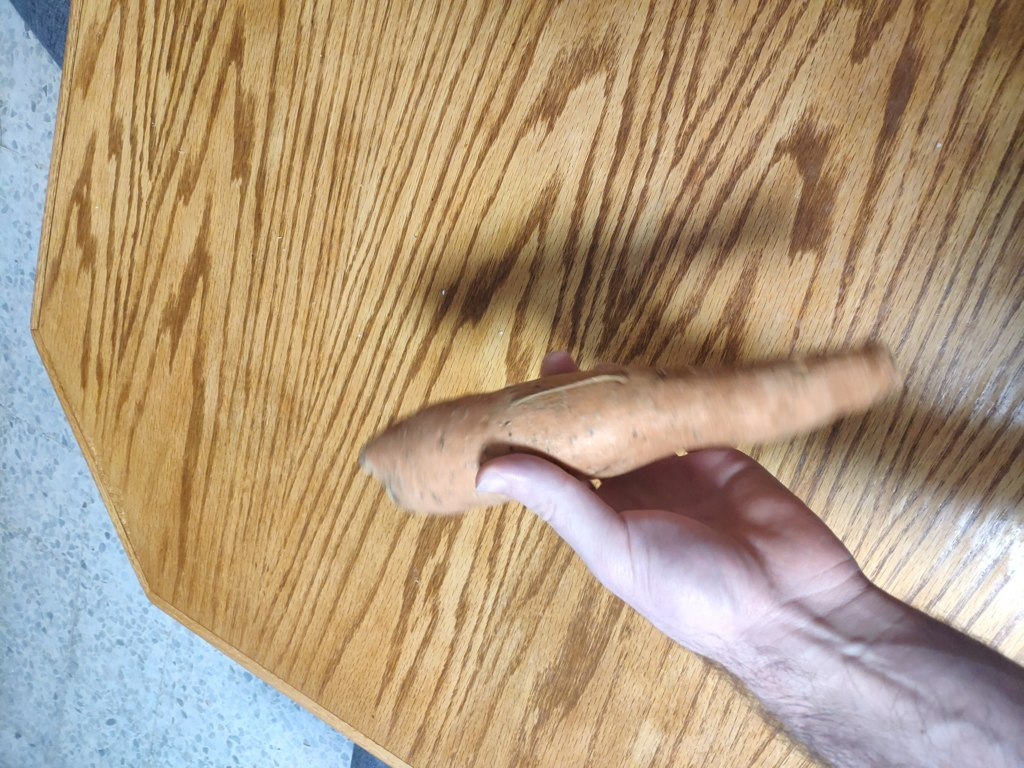Sweet Potato: (371, 364, 894, 468)
